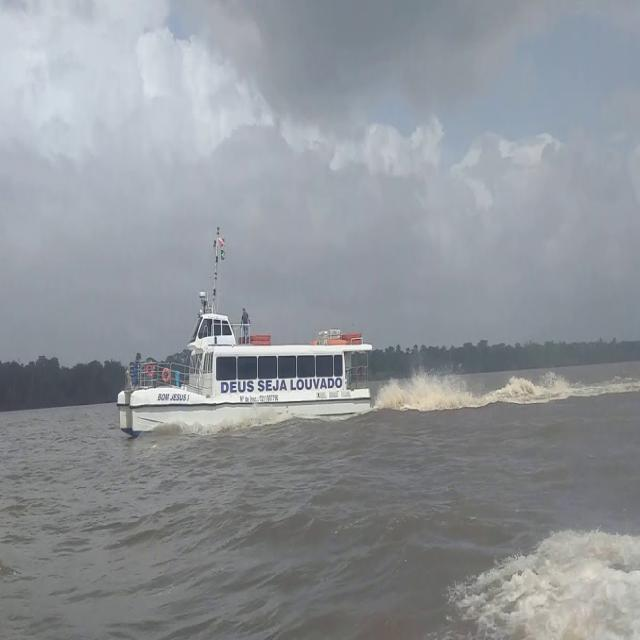houseboat: (113, 297, 368, 419)
